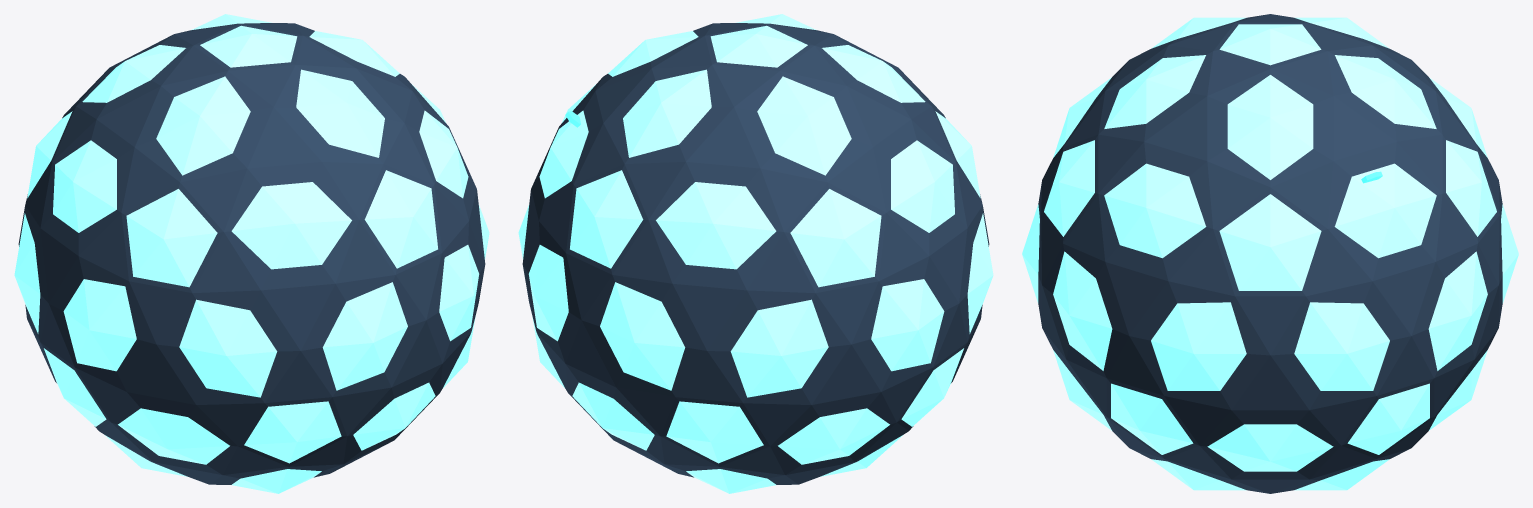
Rendered from solarguard_globe.glb.
The picture shows the model from 3 angles, left to right: view 1: azimuth 30°, elevation 25°; view 2: azimuth 150°, elevation 25°; view 3: azimuth 270°, elevation 25°; orthographic projection. The views are drawn at different scales.
Visible parts, largest first — view 1: SolarGuard_Globe, SG_Atmosphere; view 2: SolarGuard_Globe, SG_Atmosphere; view 3: SolarGuard_Globe, SG_Atmosphere.
Boxes of the visible parts, x1,y1,x2,y2 form: SolarGuard_Globe: [18, 23, 485, 484]; SG_Atmosphere: [14, 14, 489, 493]; SolarGuard_Globe: [522, 23, 989, 484]; SG_Atmosphere: [518, 14, 993, 493]; SolarGuard_Globe: [1038, 14, 1502, 493]; SG_Atmosphere: [1022, 17, 1518, 490].
Bounding box in the file's own units: 2 × 2.07 × 2.07.
